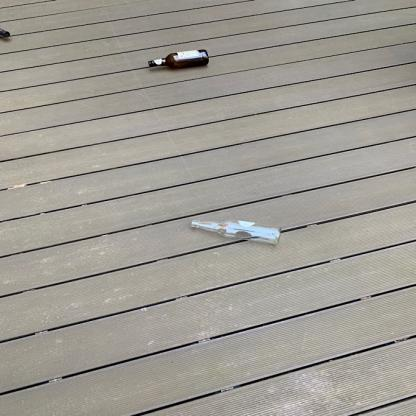trash: (184, 213, 286, 249), (140, 49, 214, 73)
